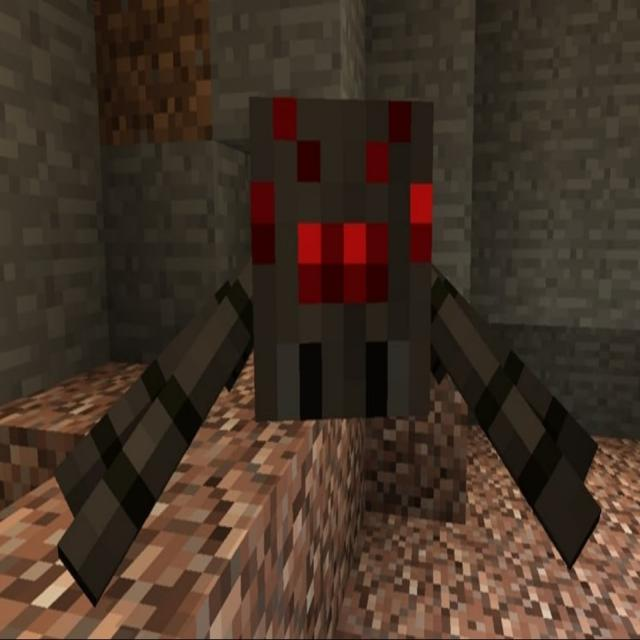Spider: (54, 93, 600, 607)
